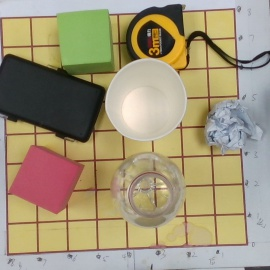chess: (111, 153, 186, 229)
cup: (105, 61, 187, 142)
